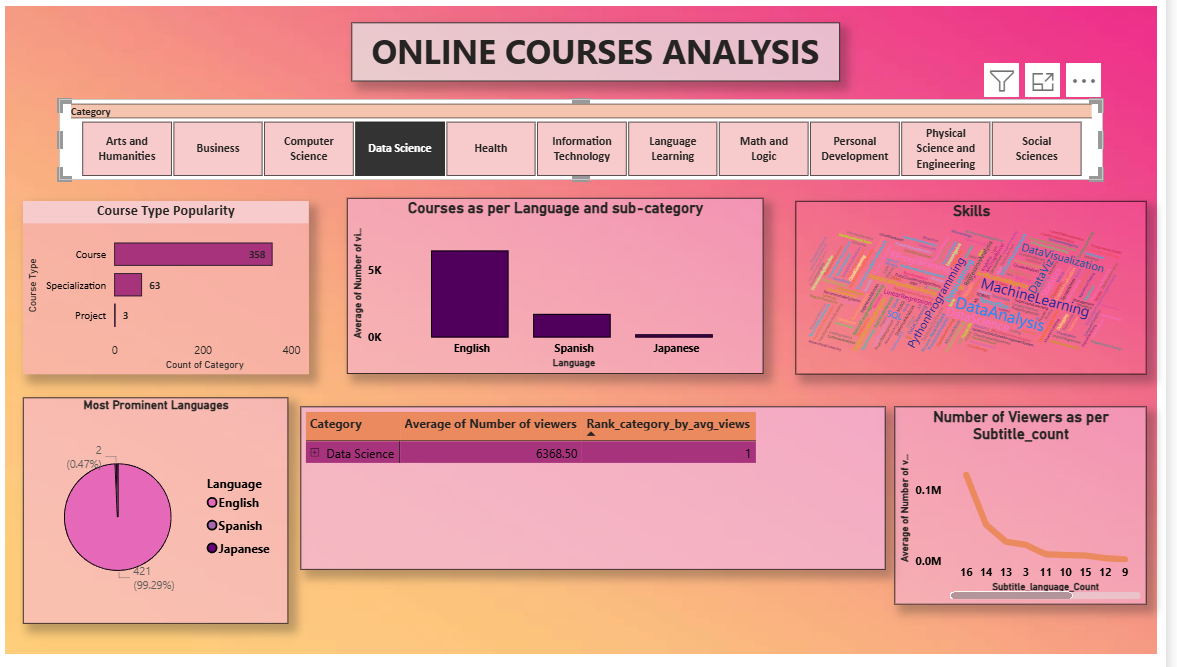

The page's visual inventory and layout, read from the dashboard file:
{"tool":"powerbi","page":{"name":"Page 1","canvas":[1300,1500],"ordinal":0},"visuals":[{"type":"textbox","box":[395,405,542.5,65],"z":0},{"type":"slicer","fields":{"Values":["Online_Courses.Category"]},"box":[70,490,1160,90],"z":1000},{"type":"clusteredBarChart","title":"Course Type Popularity","fields":{"Category":["Online_Courses.Course Type"],"Y":["CountNonNull(Online_Courses.Category)"]},"box":[30,602.5,317.5,192.5],"z":2000},{"type":"columnChart","title":"Courses as per Language and sub-category","fields":{"Category":["Online_Courses.Language"],"Y":["Avg(Online_Courses.Number of viewers)"]},"box":[390,600,462.5,195],"z":3000},{"type":"actionButton","box":[0,0,100,40],"z":4000},{"type":"WordCloud1447959067750","fields":{"Category":["Online_Courses.Skills"]},"box":[887.5,602.5,390,192.5],"z":5000},{"type":"pieChart","title":"Most Prominent Languages","fields":{"Category":["Online_Courses.Language"],"Y":["CountNonNull(Online_Courses.CourseID)"]},"box":[29.9,822.3,294.6,251.1],"z":6000},{"type":"pivotTable","fields":{"Rows":["Online_Courses.Category","Online_Courses.Language"],"Values":["Avg(Online_Courses.Number of viewers)","Online_Courses.Rank_category_by_avg_views"]},"box":[339.1,831,650,181.5],"z":7000},{"type":"lineChart","title":"Number of Viewers as per Subtitle_count","fields":{"Y":["Avg(Online_Courses.Number of viewers)"],"Category":["Online_Courses.Subtitle_language_Count"]},"box":[997.8,831,279.9,220.1],"z":7001}]}

Visuals, with their boxes on the page's 1300x1500 design canvas (x1, y1, x2, y2). These are canvas units, not pixel positions in the 1177x667 screenshot, which may show the page scaled, cropped or inside an application window:
textbox: bbox=(395, 405, 938, 470)
slicer - Online_Courses.Category: bbox=(70, 490, 1230, 580)
"Course Type Popularity" clusteredBarChart: bbox=(30, 602, 348, 795)
"Courses as per Language and sub-category" columnChart: bbox=(390, 600, 852, 795)
actionButton: bbox=(0, 0, 100, 40)
WordCloud1447959067750 - Online_Courses.Skills: bbox=(888, 602, 1278, 795)
"Most Prominent Languages" pieChart: bbox=(30, 822, 324, 1073)
pivotTable - Online_Courses.Category x Online_Courses.Language: bbox=(339, 831, 989, 1012)
"Number of Viewers as per Subtitle_count" lineChart: bbox=(998, 831, 1278, 1051)
